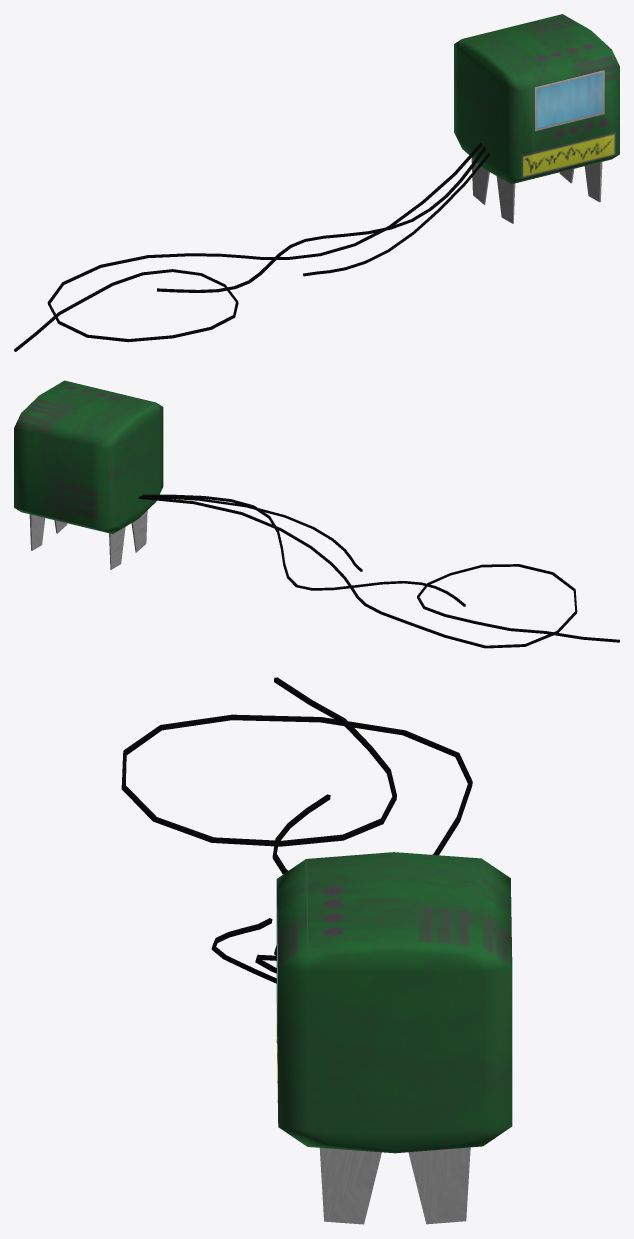
File: Colony_MiniPC_Art.fbx
The picture shows the model from 3 angles, top to bottom: view 1: azimuth 30°, elevation 25°; view 2: azimuth 150°, elevation 25°; view 3: azimuth 270°, elevation 25°; orthographic projection. The views are drawn at different scales.
Parts seen in each view (by area): view 1: Colony_MiniPC_Art; view 2: Colony_MiniPC_Art; view 3: Colony_MiniPC_Art.
Part boxes in pixels (box(x1,y1,x2,y2)): Colony_MiniPC_Art: box(14, 14, 619, 351); Colony_MiniPC_Art: box(14, 380, 619, 648); Colony_MiniPC_Art: box(121, 677, 512, 1224).
Size of the model in its own units: 206 by 51.53 by 63.15.
